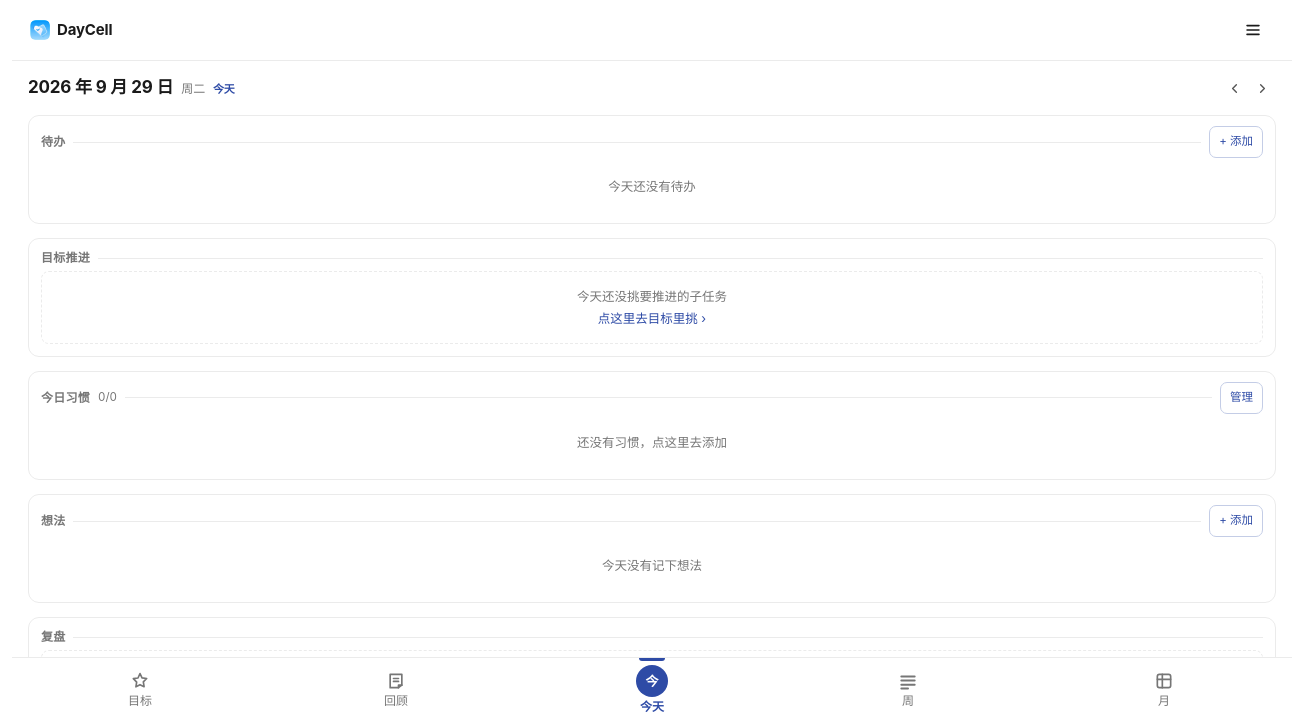
it: App 冒烟 › v8.90 日视图日头右侧的 ‹ › 可切前后一天（桌面无触摸手势时的换日入口）
expect the button named "前一天" is shown: met, box [1222, 75, 1248, 101]
Click the button named "后一天": (1263, 88) [1250, 75, 1276, 101]
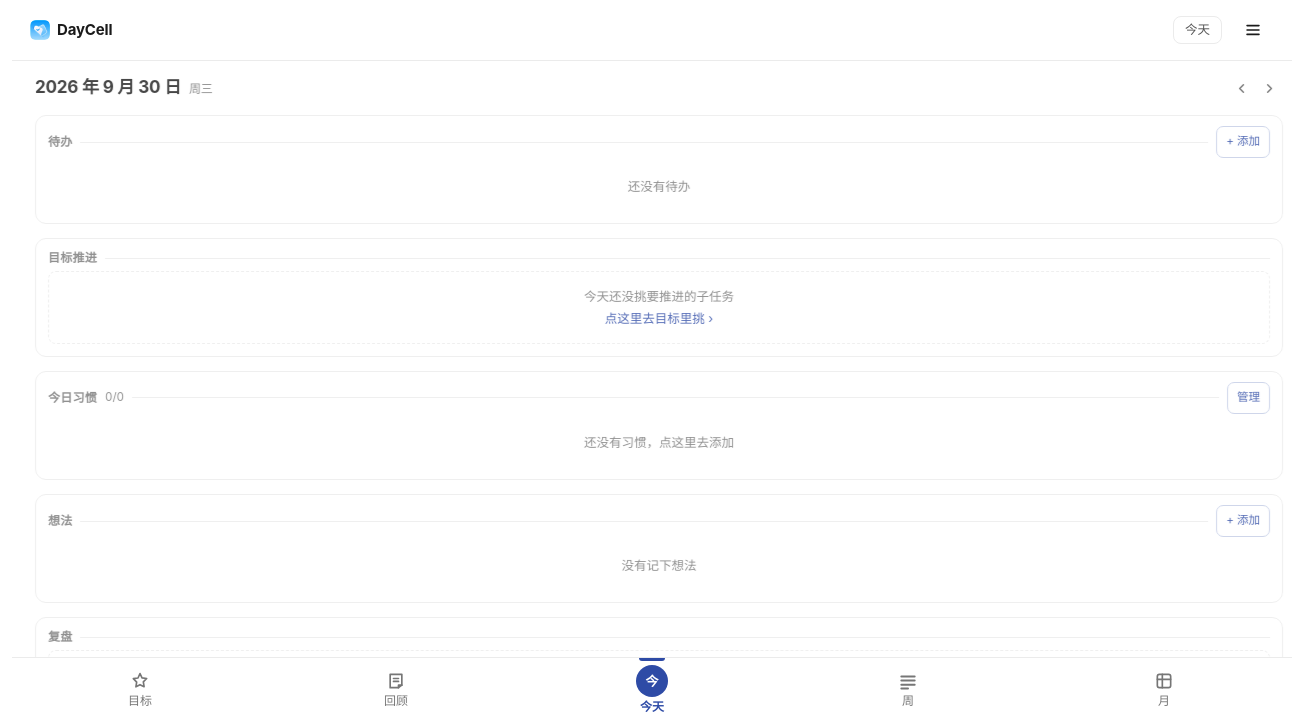
expect the text "2026 年 9 月 30 日" is shown: met, box [32, 77, 210, 97]
Click the button named "前一天": (1239, 88) [1226, 75, 1252, 101]
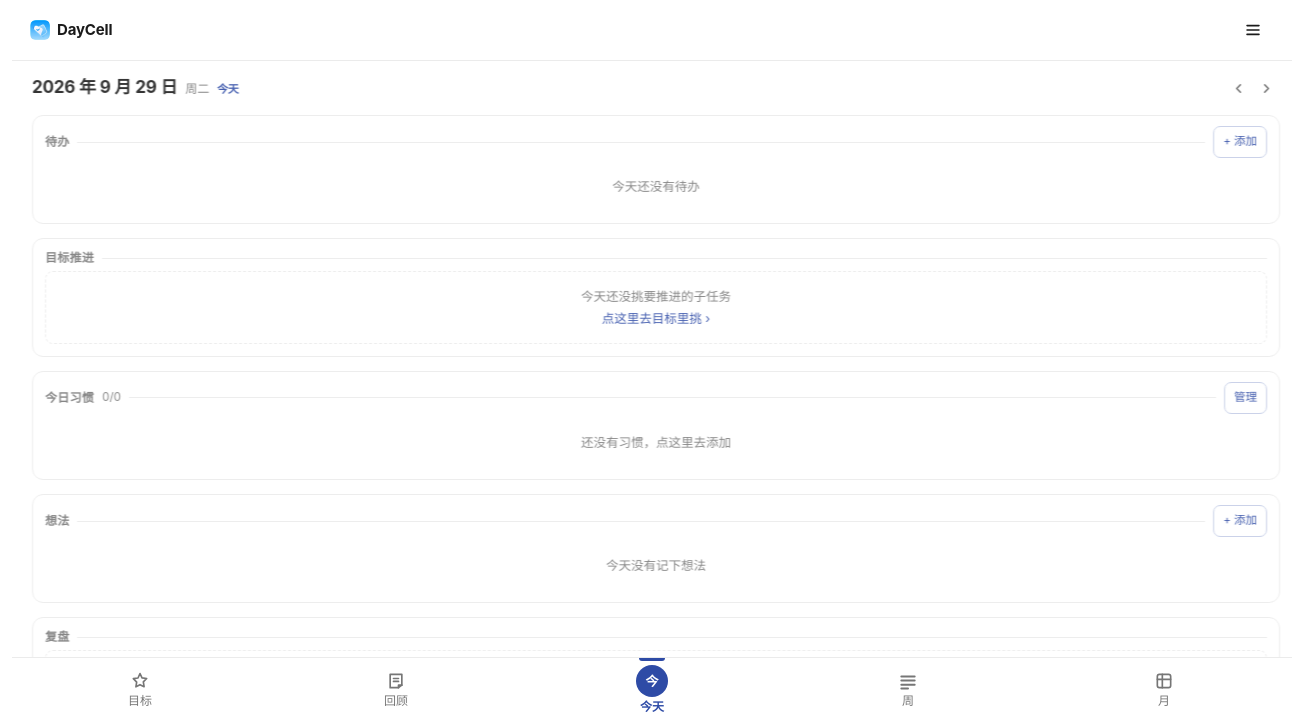
expect the text "2026 年 9 月 29 日" is shown: met, box [29, 77, 236, 97]
